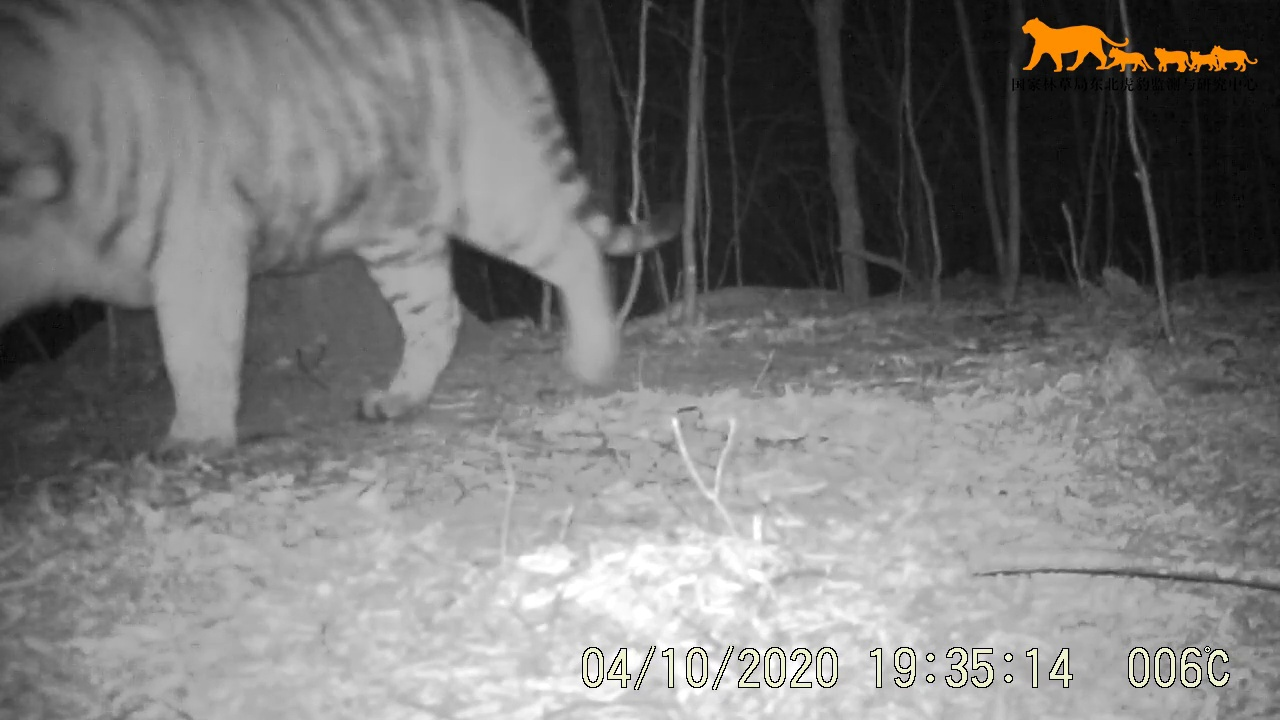Tiger: (2, 1, 740, 511)
